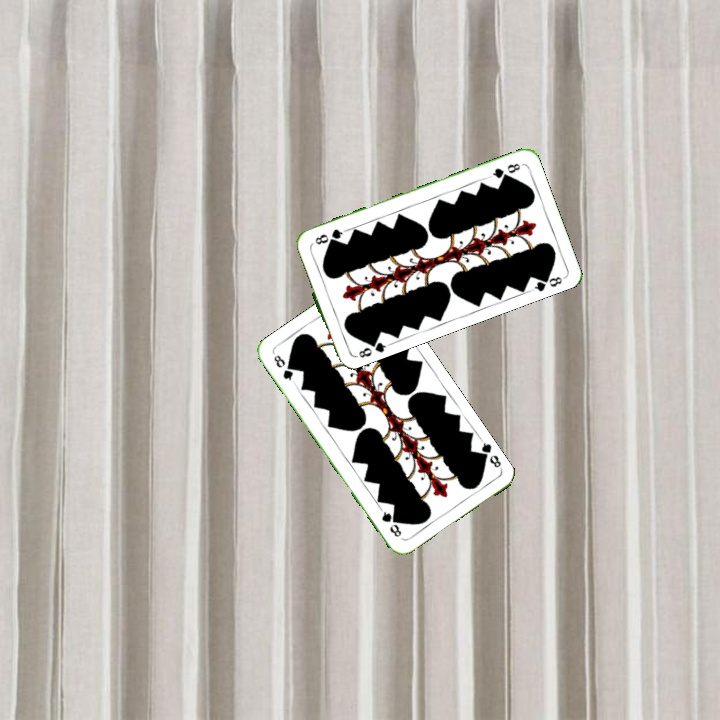G8: (474, 436, 504, 472), (351, 334, 390, 361), (270, 351, 297, 386), (485, 159, 523, 181)
